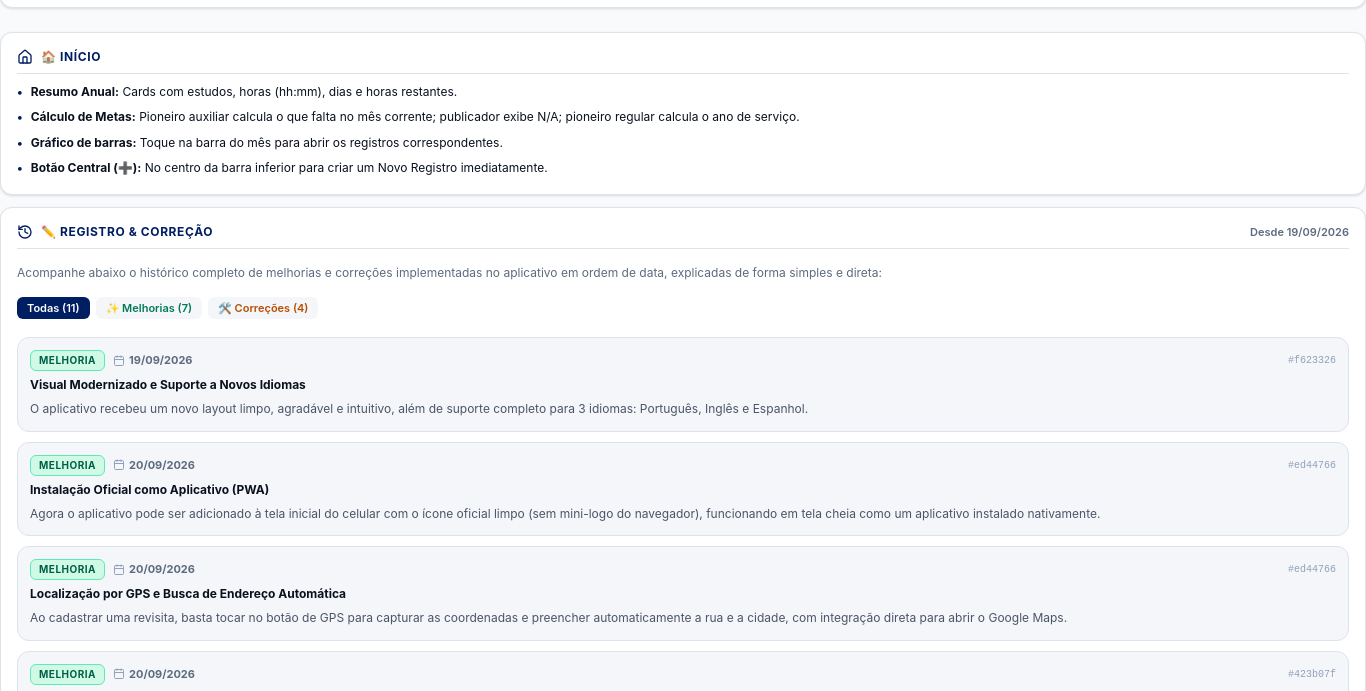
Test: HelpView - FAQ por Designação › deve filtrar itens por Melhoria e por Correção no card Registro e Correção
The width and height of the screenshot is (1366, 691).
(page scrolled)
Filtro de Correções
Click the button "🛠️ Correções (4)" at (263, 308), box [208,296,318,319]
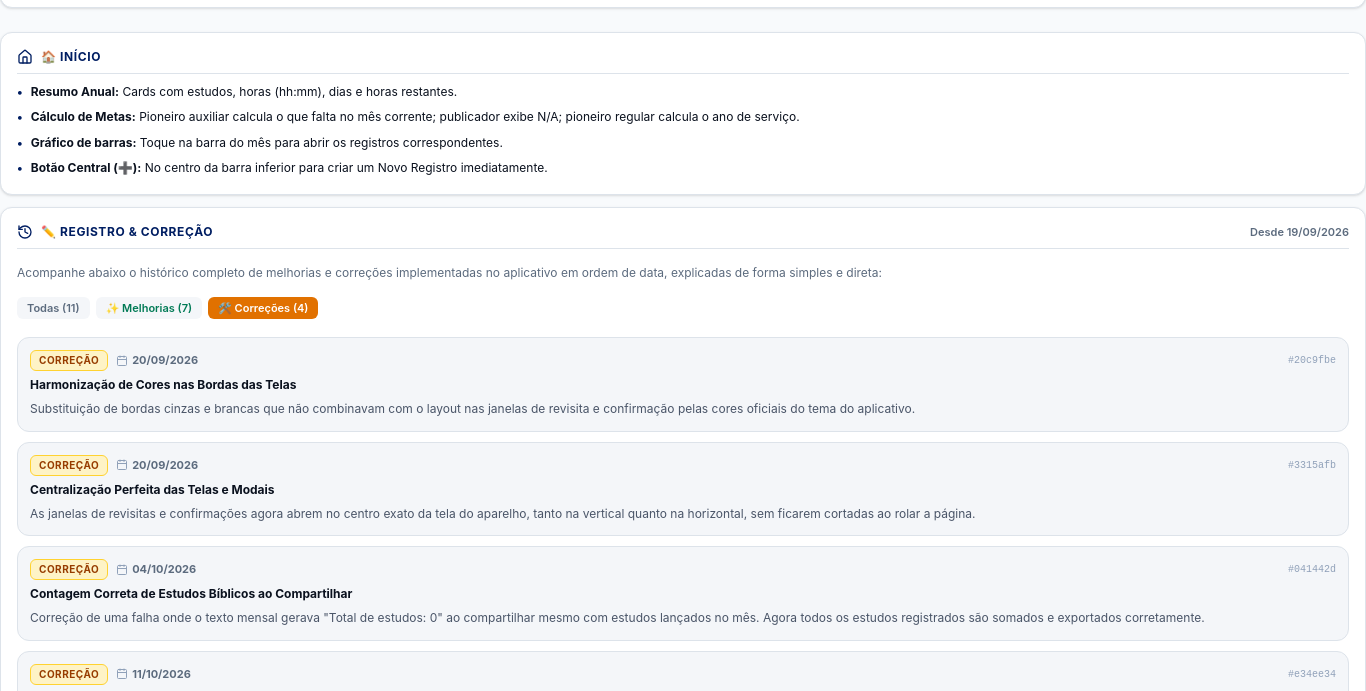
Check: the heading "Harmonização de Cores nas Bordas das Telas" is shown, box [30,377,296,392]
Check: the heading "Visual Modernizado e Suporte a Novos Idiomas" is gone
Filtro de Melhorias
Click the button "✨ Melhorias (7)" at (149, 308), box [96,296,202,319]
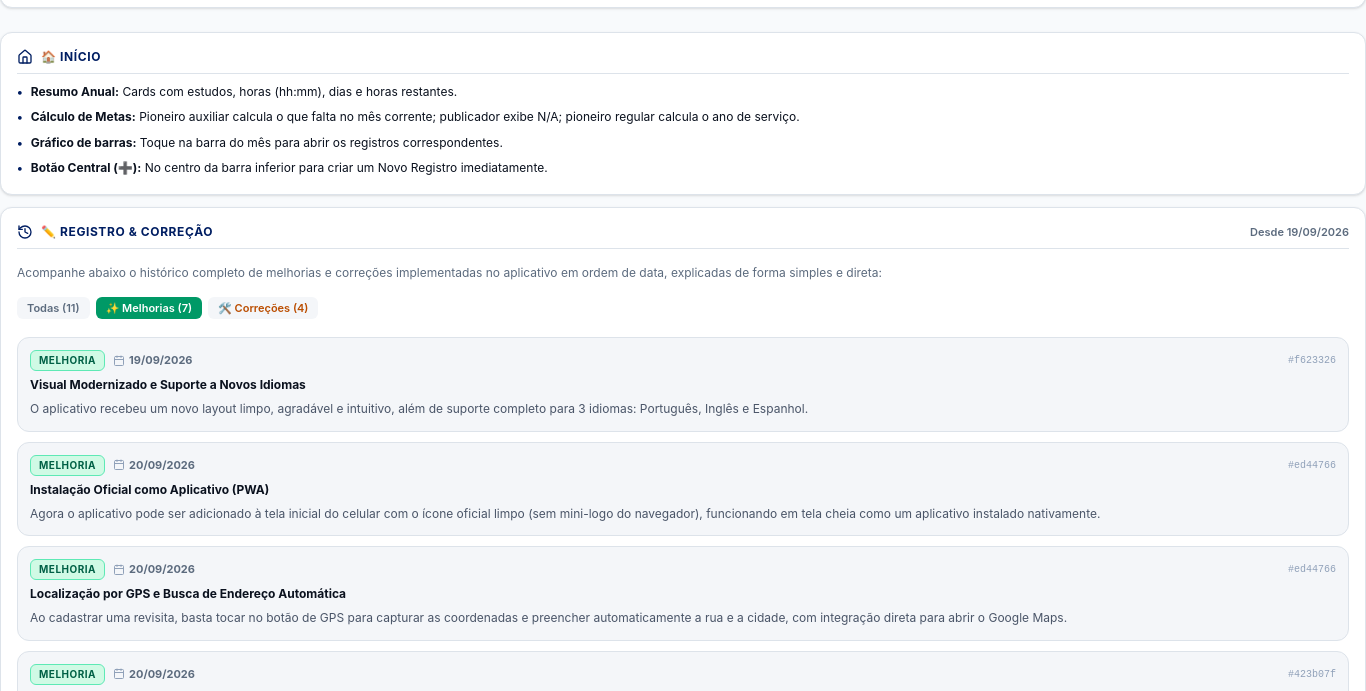
Check: the heading "Visual Modernizado e Suporte a Novos Idiomas" is shown, box [30,377,306,392]
Check: the heading "Harmonização de Cores nas Bordas das Telas" is gone
Voltar para Todas (específico do changelog: Todas (11))
Click the button "Todas (11)" at (53, 308), box [17,296,90,319]
(page scrolled)
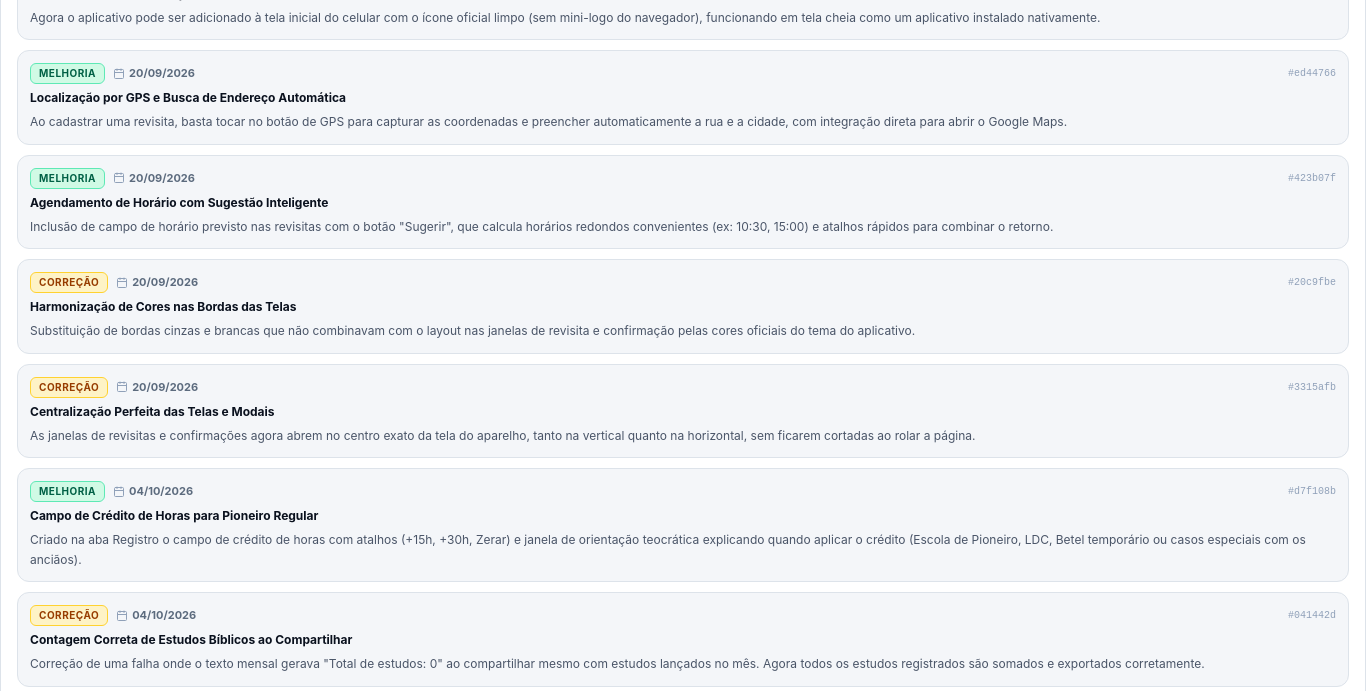
Check: the heading "Harmonização de Cores nas Bordas das Telas" is shown, box [30,299,296,314]
